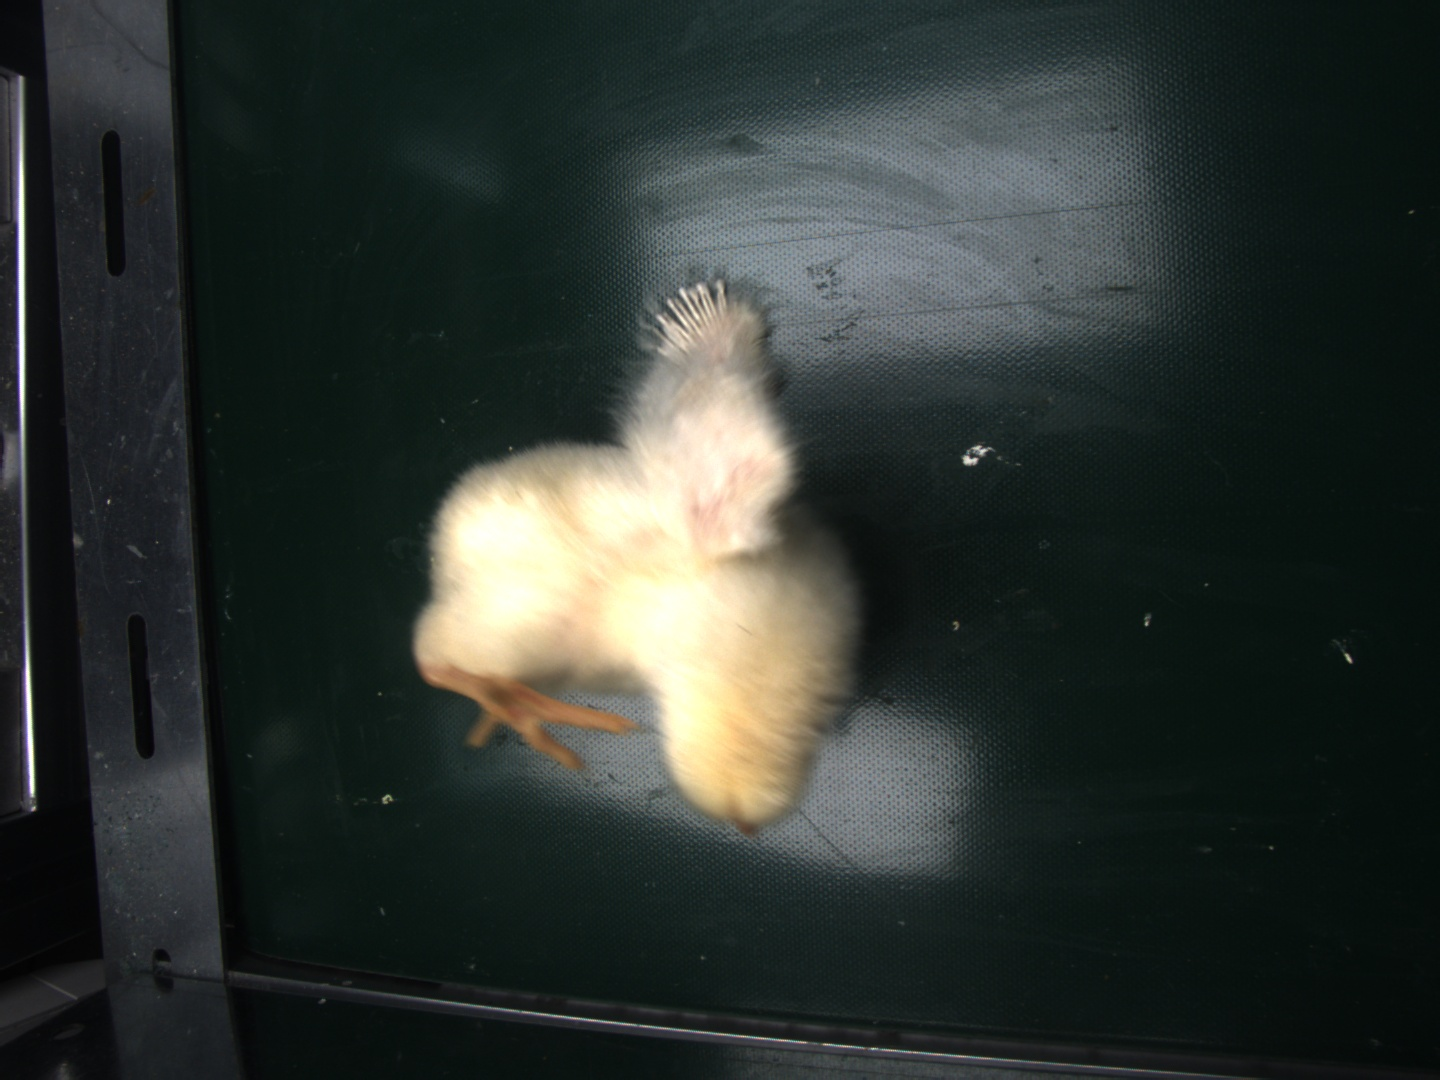male: (657, 273, 730, 351)
